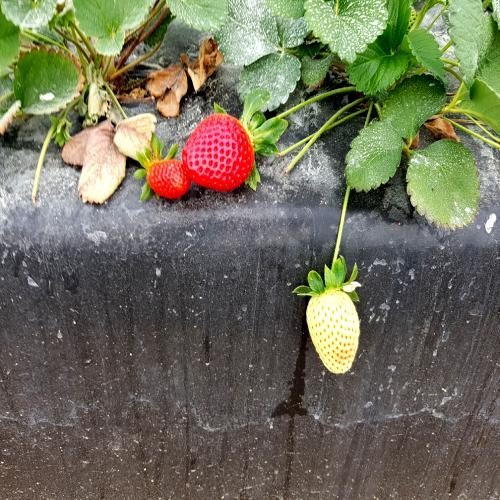ripe: (186, 116, 267, 203), (136, 160, 196, 204)
unripe: (305, 285, 370, 379)
